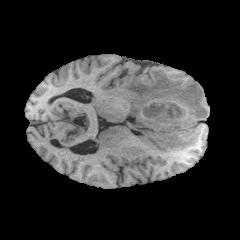glioma: (124, 68, 209, 152)
